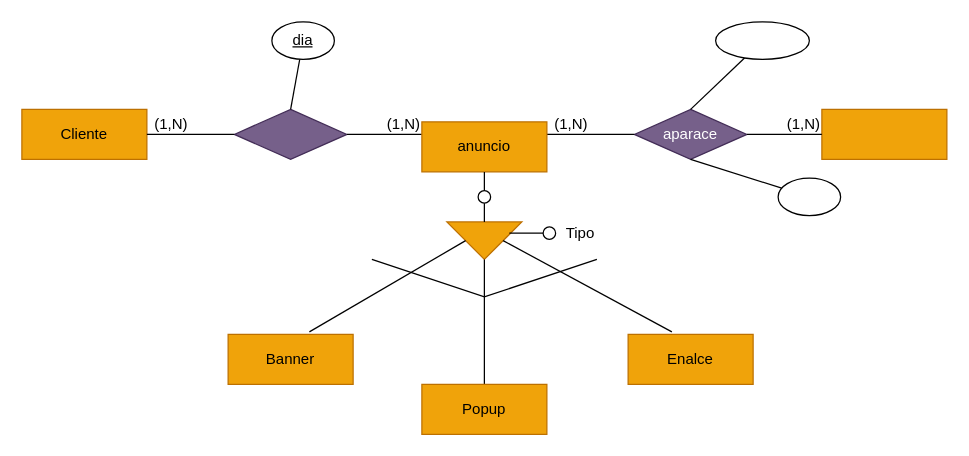
Image size: 969x456. Some labels were removed from this diagram. Here are the shapes that lost their labels. From the top down, the centre of each, then its label:
pixel 761 40: fechainicio
pixel 290 133: contrara
pixel 884 133: Web
pixel 809 196: fecha fin
